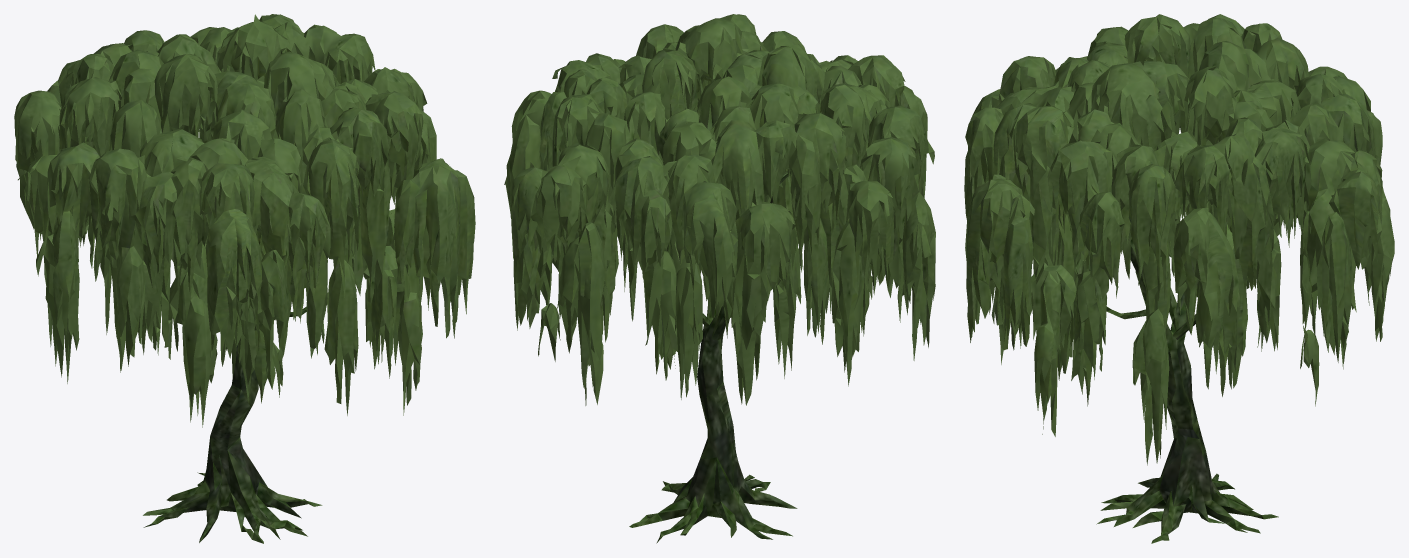
Rendered from tree-willow-b.glb.
3 views of the same model, side by side, from view 1: azimuth 30°, elevation 25°; view 2: azimuth 150°, elevation 25°; view 3: azimuth 270°, elevation 25° (orthographic). The views are drawn at different scales.
Visible parts, largest first — view 1: output_unwrapped; view 2: output_unwrapped; view 3: output_unwrapped.
Part boxes in pixels (bbox=[...]): output_unwrapped: bbox=[14, 14, 475, 543]; output_unwrapped: bbox=[504, 14, 935, 543]; output_unwrapped: bbox=[964, 14, 1394, 543].
Bounding box in the file's own units: 13.32 × 14.87 × 12.39.
1 material, 1 textured.
